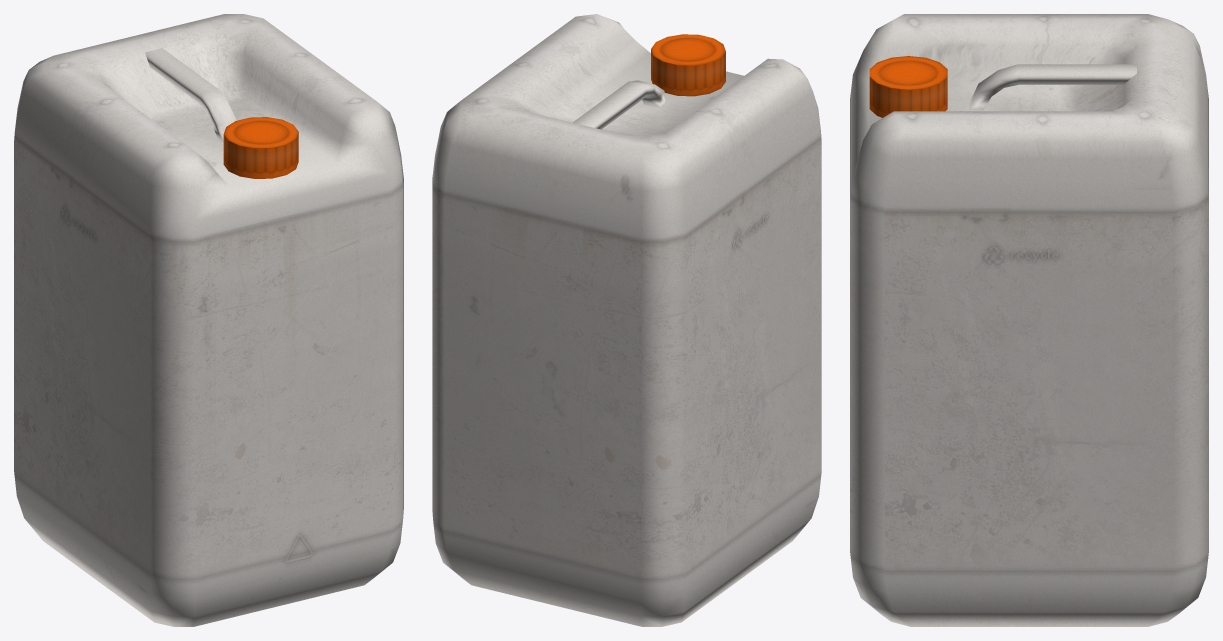
File: ms_jerrycan_plastic_lod0.fbx
The picture shows the model from 3 angles, left to right: view 1: azimuth 30°, elevation 25°; view 2: azimuth 150°, elevation 25°; view 3: azimuth 270°, elevation 25°; orthographic projection. The views are drawn at different scales.
Parts seen in each view (by area): view 1: ms_jerrycan_plastic_lod0; view 2: ms_jerrycan_plastic_lod0; view 3: ms_jerrycan_plastic_lod0.
Boxes of the visible parts, x1,y1,x2,y2 form: ms_jerrycan_plastic_lod0: (14,14,403,626); ms_jerrycan_plastic_lod0: (432,14,821,626); ms_jerrycan_plastic_lod0: (850,14,1208,626).
Bounding box in the file's own units: 25.88 × 46.06 × 29.81.
